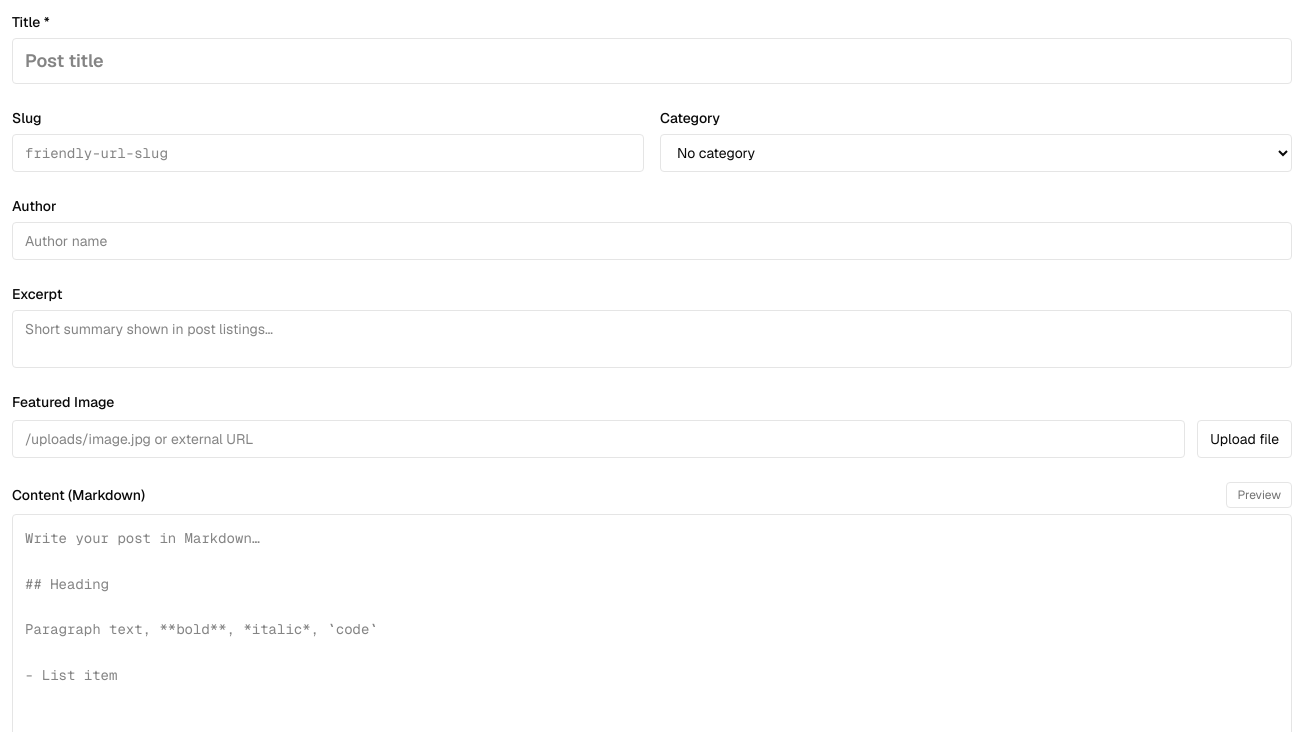
Test case: PostForm › preview toggle › shows nothing to preview message when content is empty
This screenshot has width=1304, height=732.
Click the button "Preview" at (1259, 495), box [1226,482,1292,508]
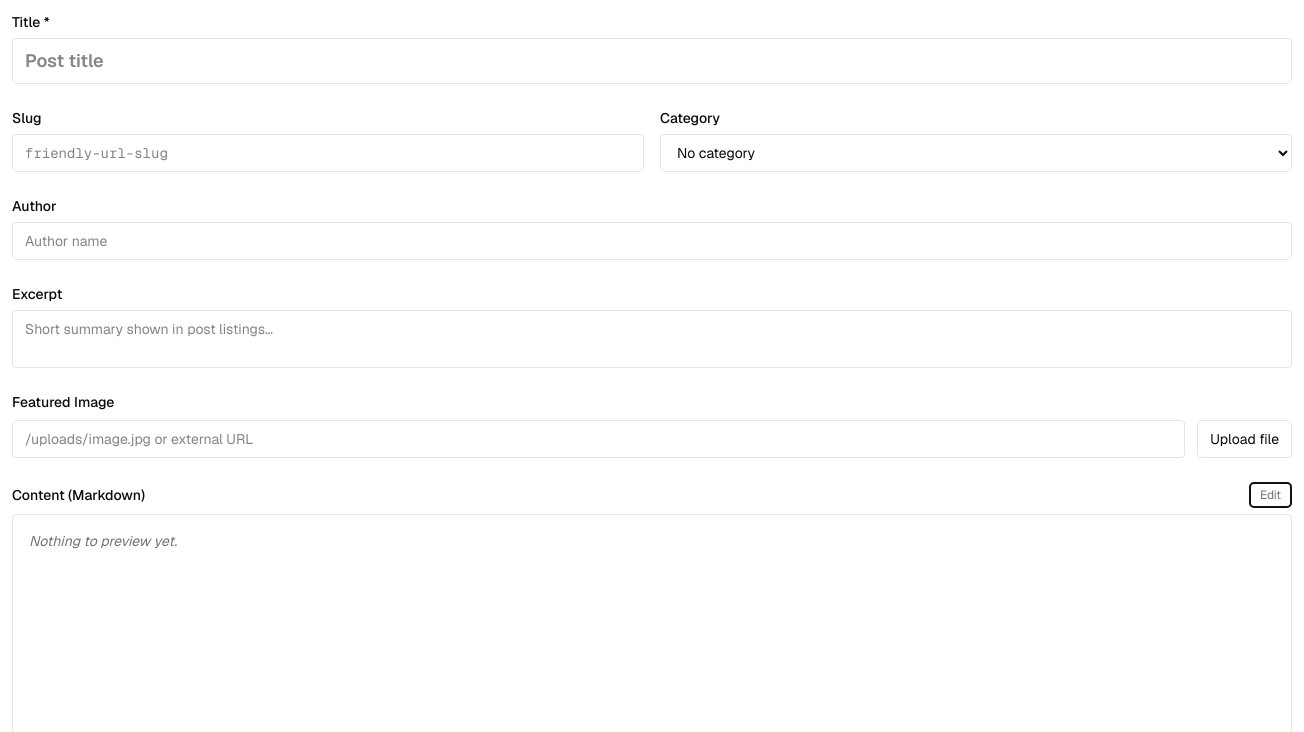
Expected: the text "Nothing to preview yet." is shown, [29,532,177,550]
